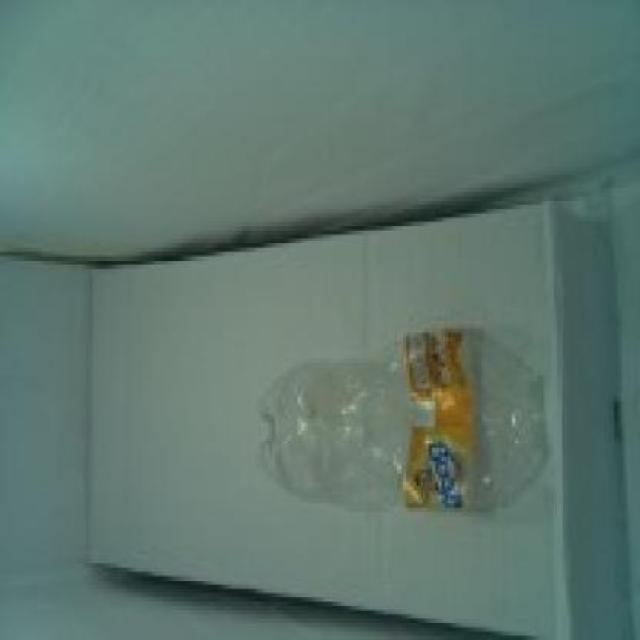Pet_Bottle: (243, 340, 565, 528)
